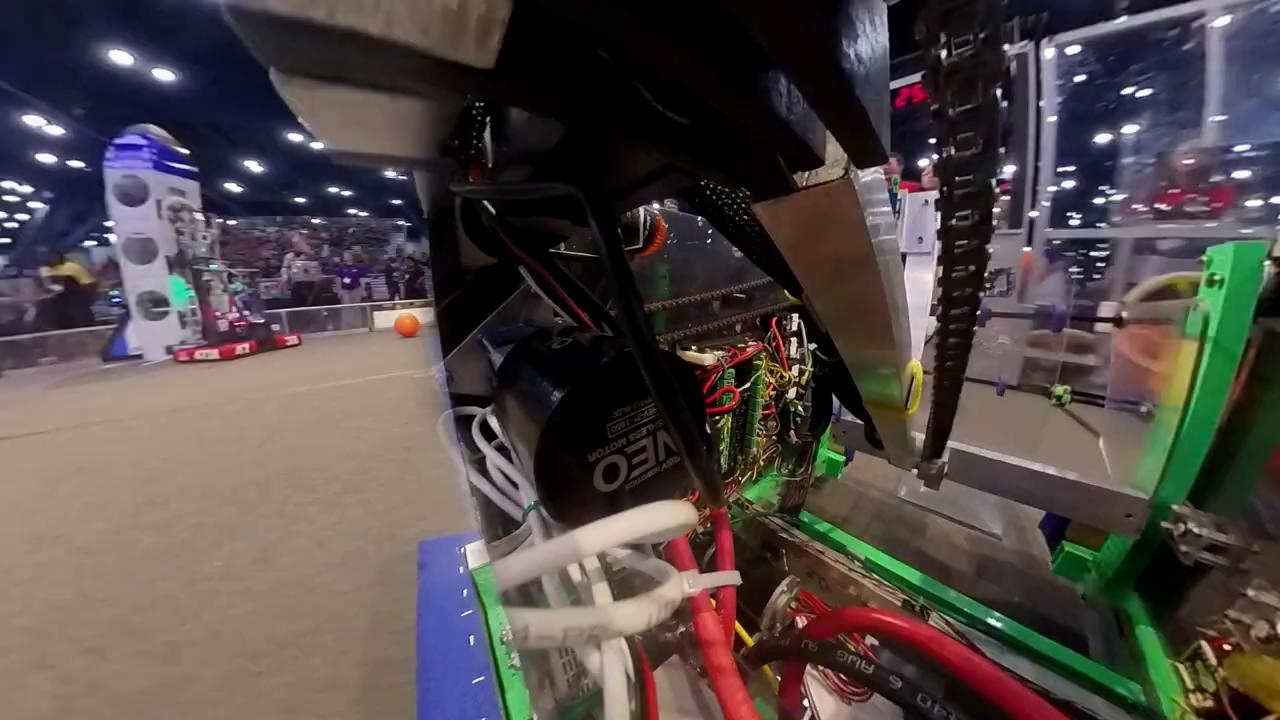robot: (175, 263, 303, 364)
